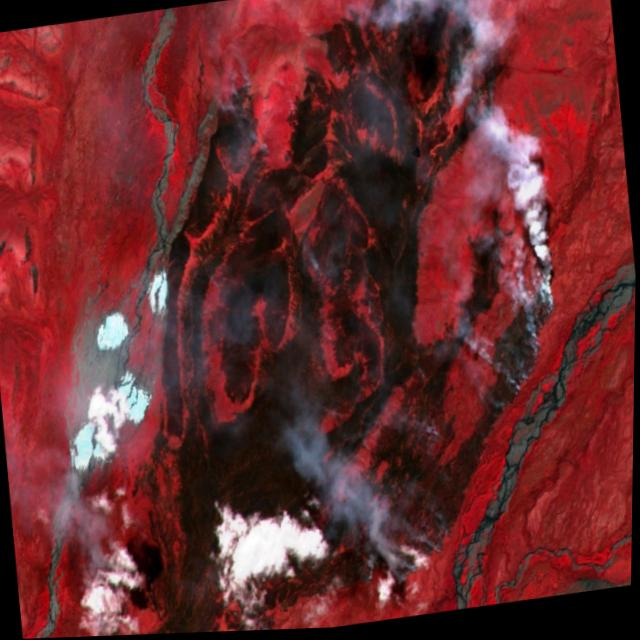fire: (25, 0, 602, 639)
